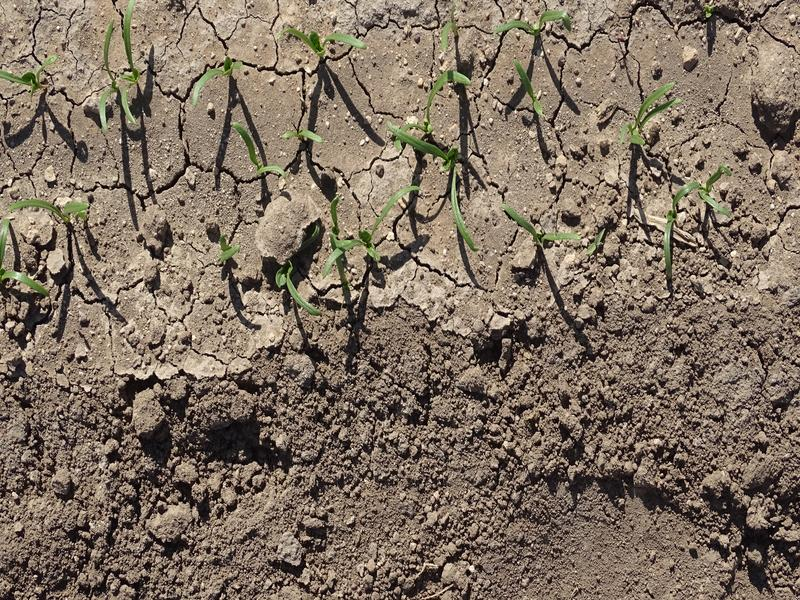Espinaca: (379, 117, 483, 253), (667, 166, 732, 274), (231, 120, 288, 183), (624, 85, 676, 153), (1, 222, 47, 295), (504, 203, 578, 247), (267, 269, 326, 322), (290, 22, 364, 63), (92, 8, 118, 123), (121, 2, 142, 128), (331, 218, 385, 266), (426, 61, 473, 111), (195, 56, 246, 97), (1, 54, 59, 88), (517, 66, 554, 118), (11, 195, 87, 218), (500, 16, 572, 38)
